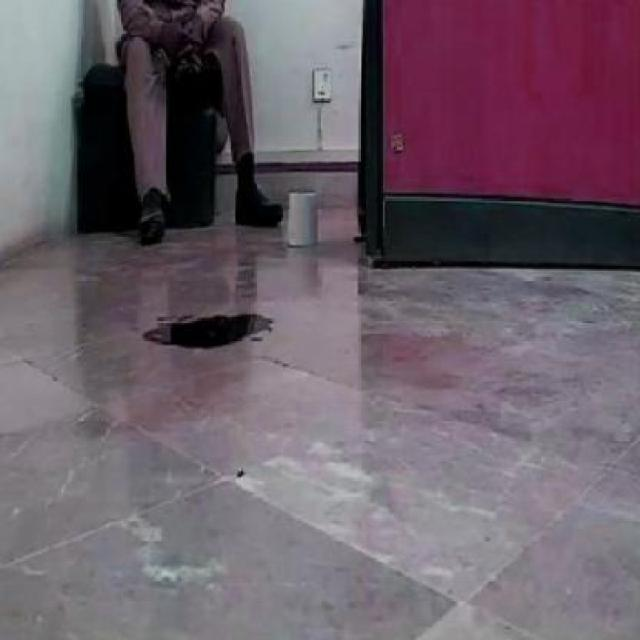spillage: (145, 316, 271, 351)
